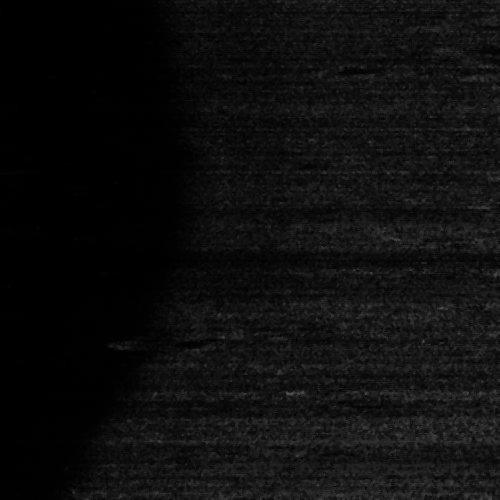object: (401, 20, 484, 27), (426, 46, 479, 51)
shadow: (442, 20, 500, 27), (452, 46, 500, 51)
